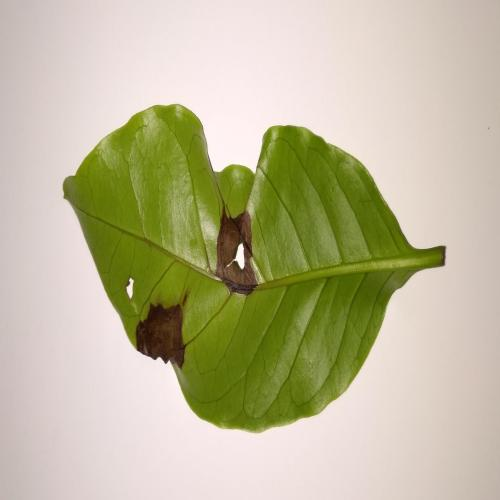miner: (216, 208, 258, 294)
